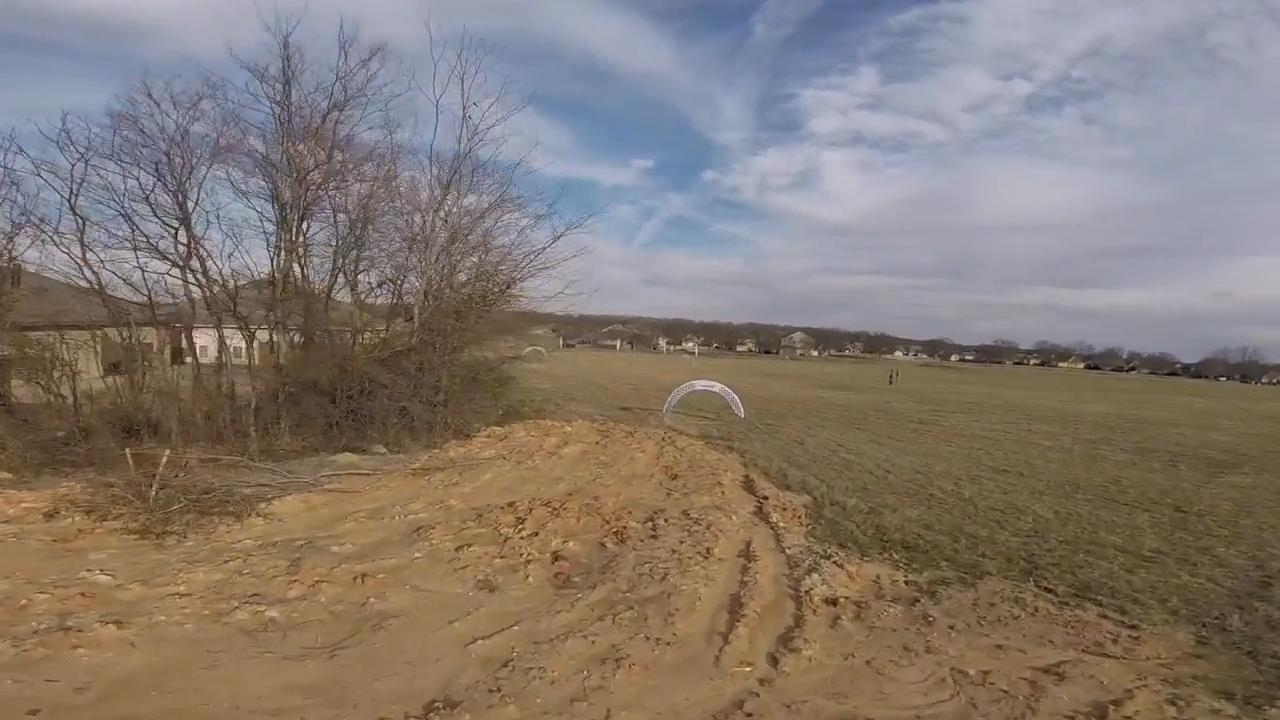gate: (657, 379, 746, 425)
